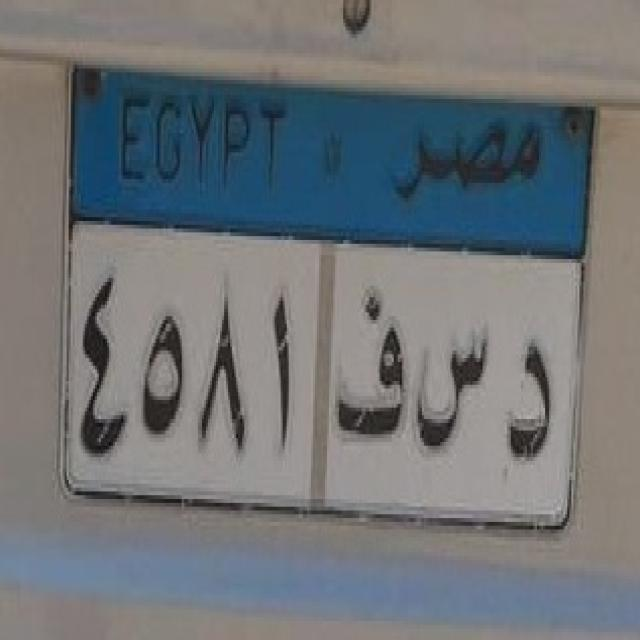1: (254, 284, 308, 466)
4: (70, 255, 136, 473)
5: (137, 300, 195, 443), (317, 0, 396, 47)
8: (194, 278, 258, 471)
F: (330, 274, 416, 446)
Seen: (412, 317, 491, 462)
daal: (498, 322, 564, 472)
